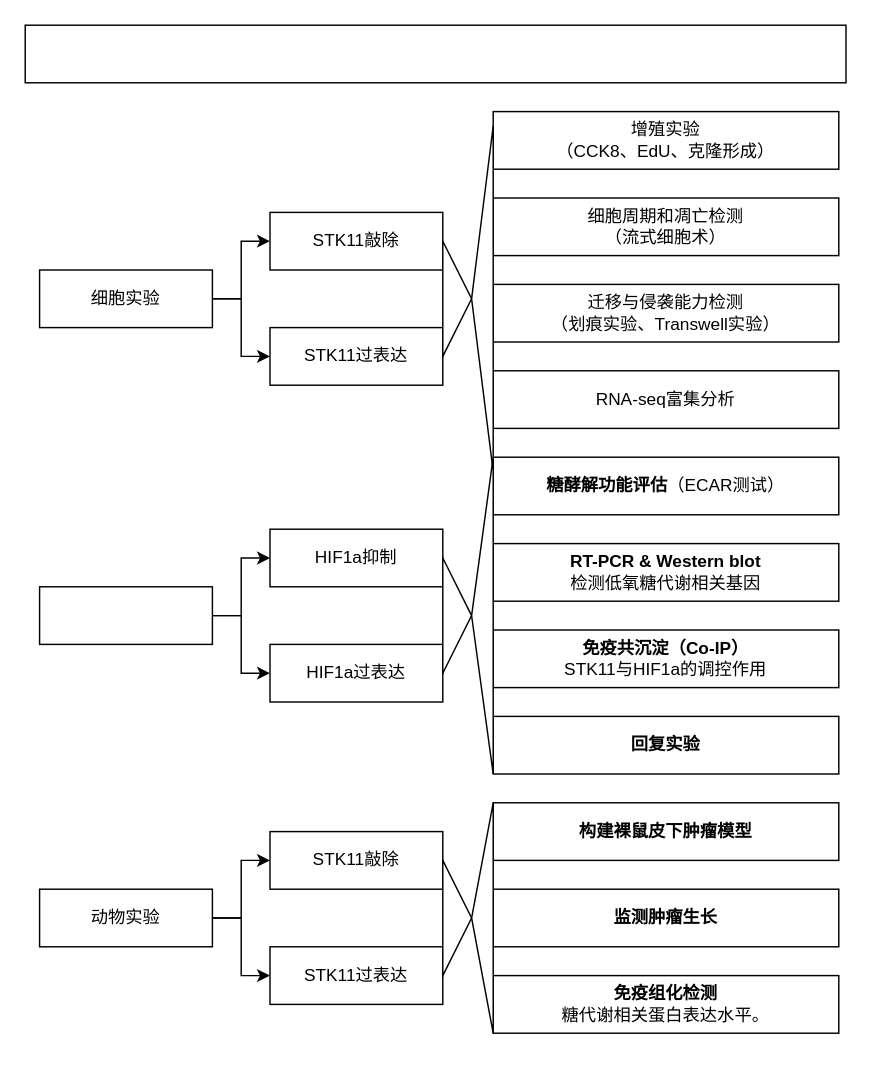
The diagram is 871 pixels wide and 1067 high, and some of its shapes have lost their labels. The shapes that lost their labels are listed below. From the top down, each one's box as (x1, y1, x2, y2) in pixels, then its label:
(24, 24, 846, 83): STK11 调控低氧糖代谢在胰腺癌增殖、迁移、侵袭中的作用及机制研究
(38, 585, 212, 644): 机制研究
